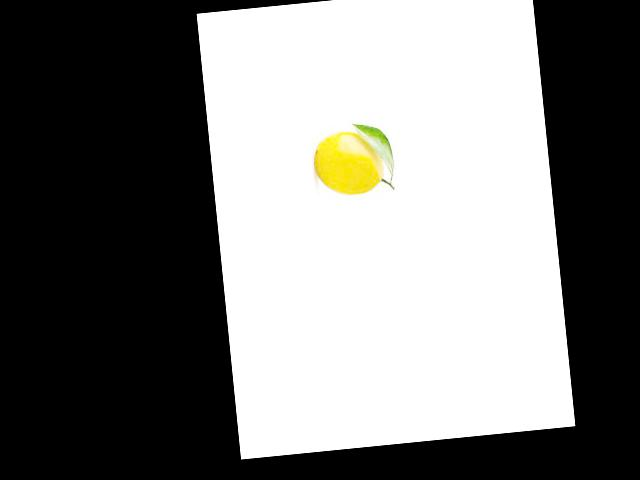lemon: (310, 128, 390, 203)
